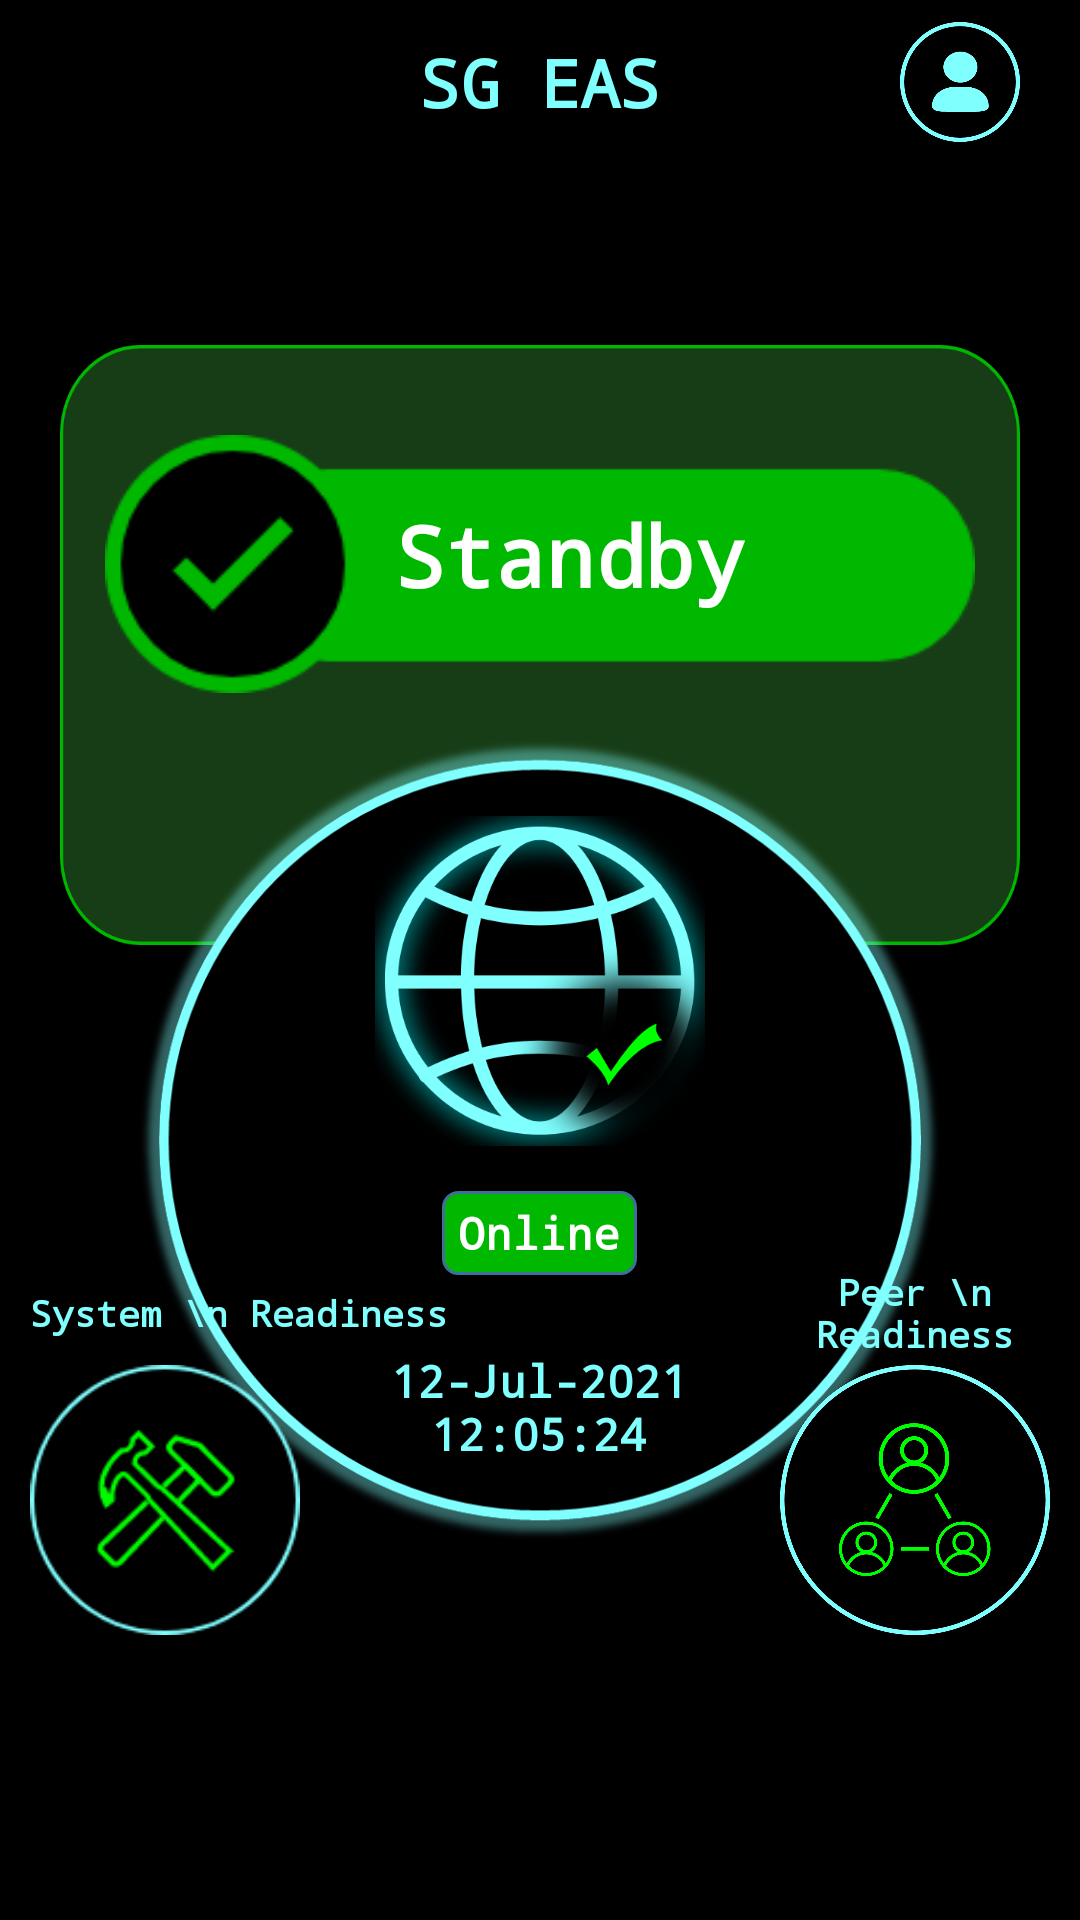

Named icons in this screenshot (1080x1920) and their centers, (x=x, y=y):
usericon: (x=960, y=82)
